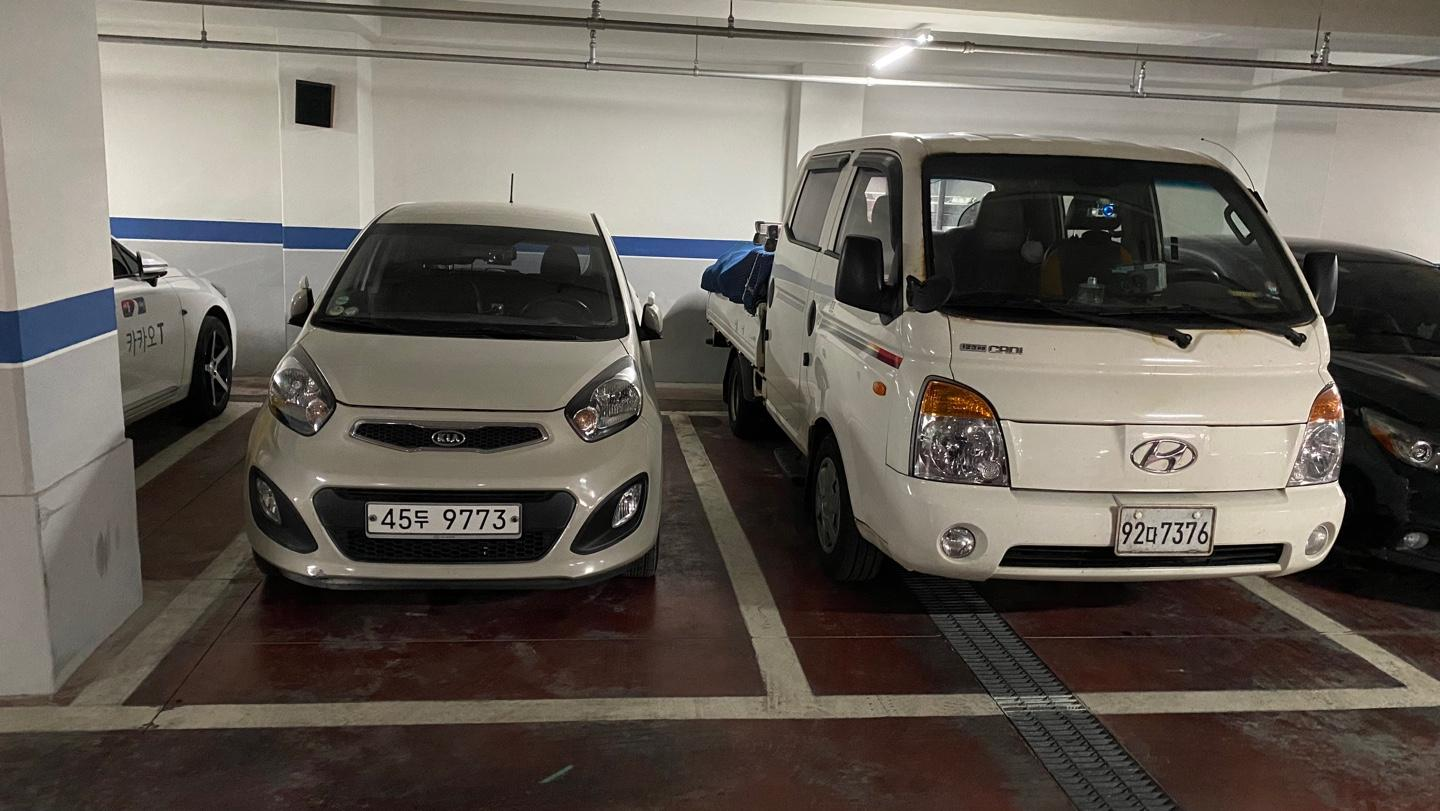occupied: (760, 127, 1353, 596), (240, 199, 680, 610)
